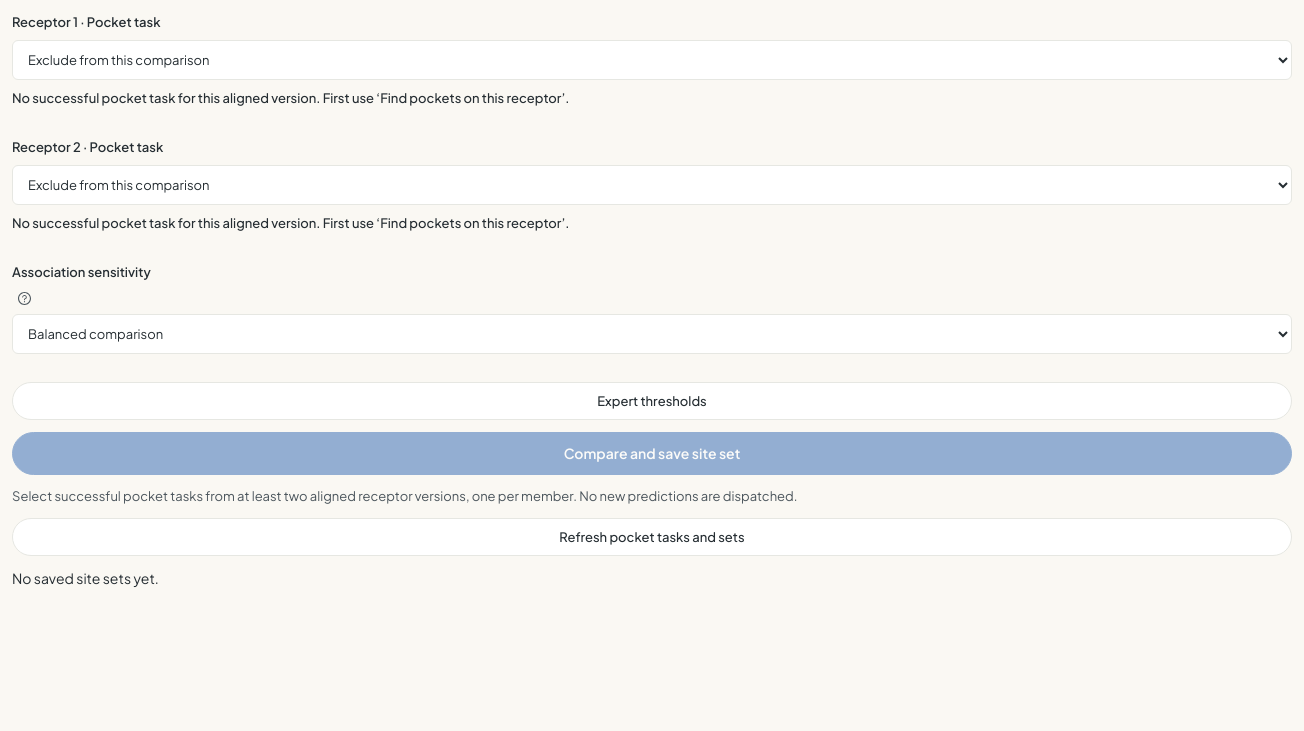
Test case: explains missing native tasks and supports guided/expert choices without submitting
Expected: the text "No saved site sets yet." is shown, x1=12 y1=569 x2=159 y2=587
Expected: the button "Compare and save site set" is disabled, x1=12 y1=432 x2=1292 y2=475
Select "Strict comparison" in the dropdown named "Association sensitivity" at (652, 334), box x1=12 y1=314 x2=1292 y2=354
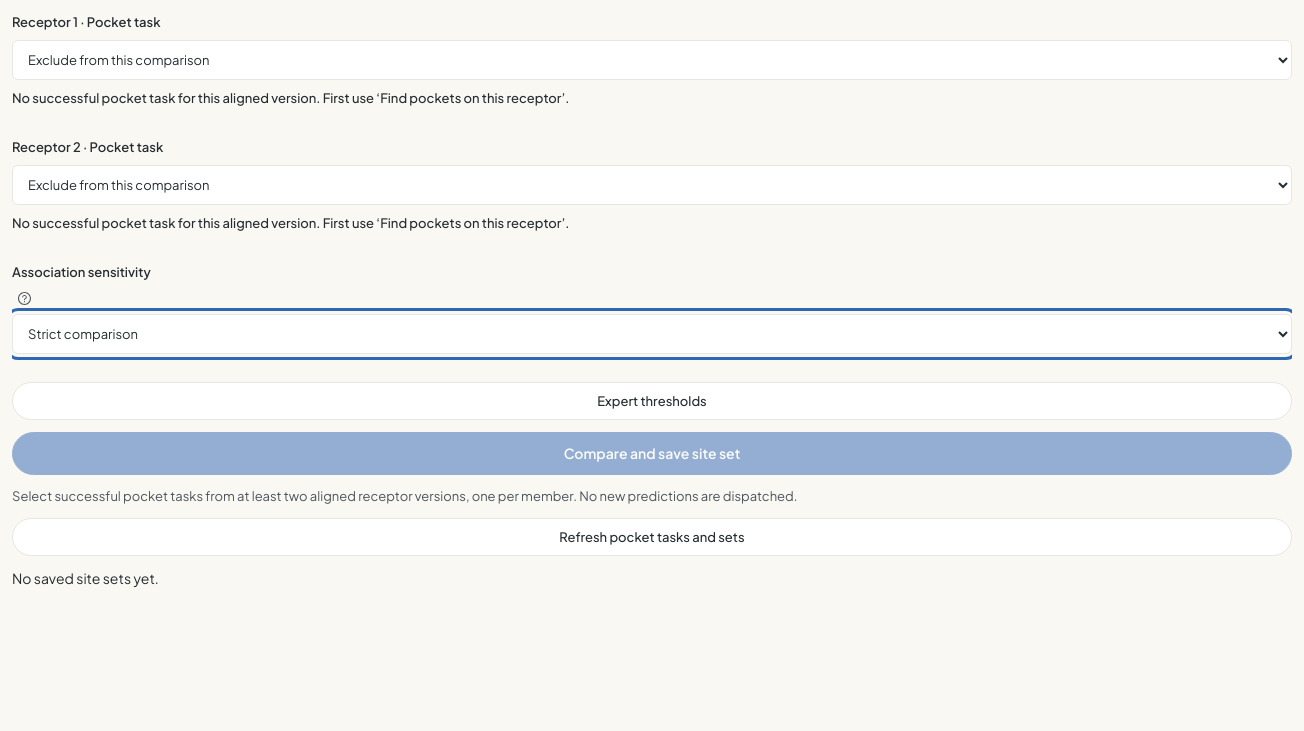
Click the button "Expert thresholds".
click(652, 401)  # box x1=12 y1=382 x2=1292 y2=420
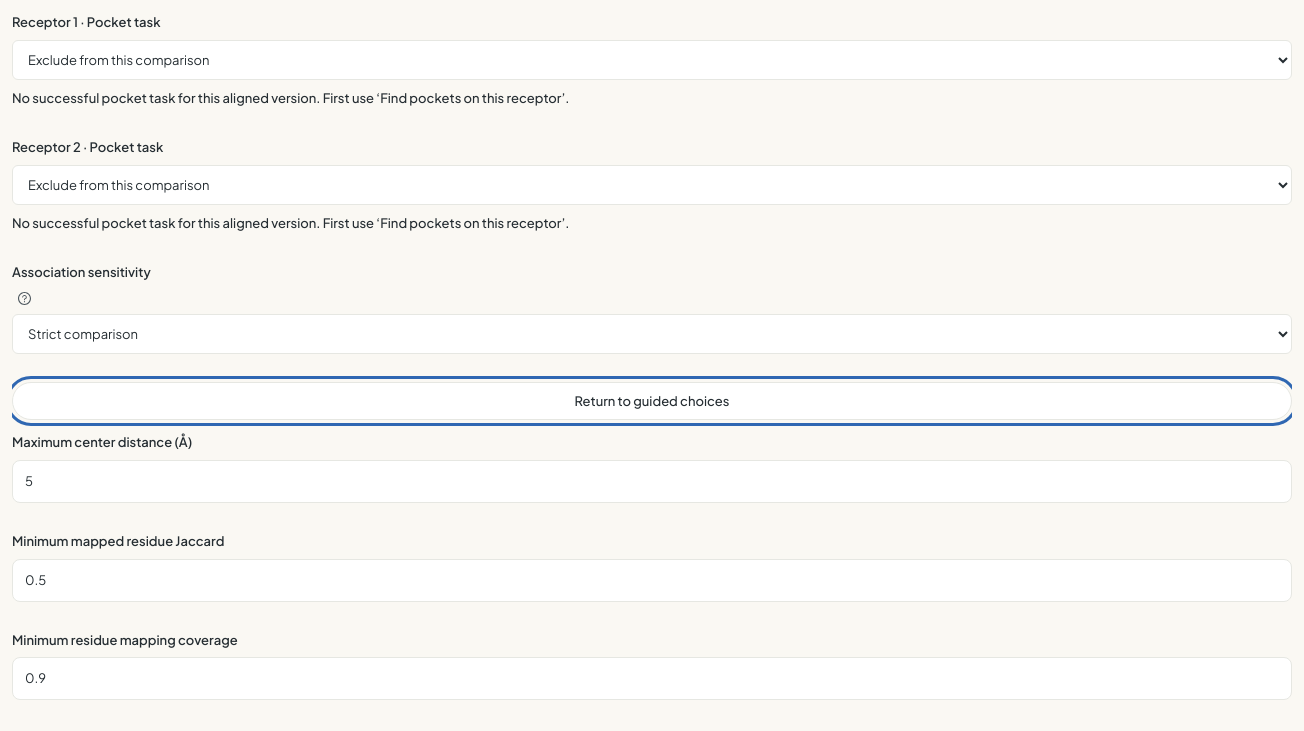
Now the number field labelled "Maximum center distance (Å)" holds "5", box x1=12 y1=460 x2=1292 y2=503
